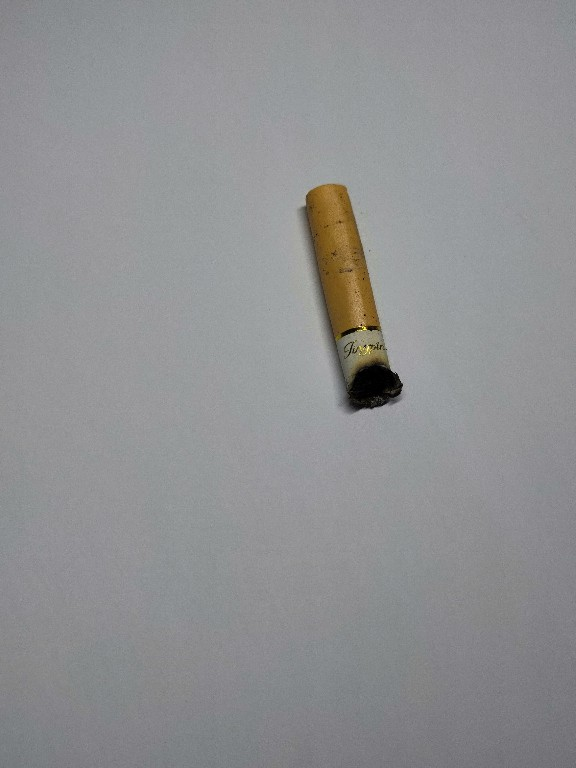cigarette: (302, 180, 407, 412)
